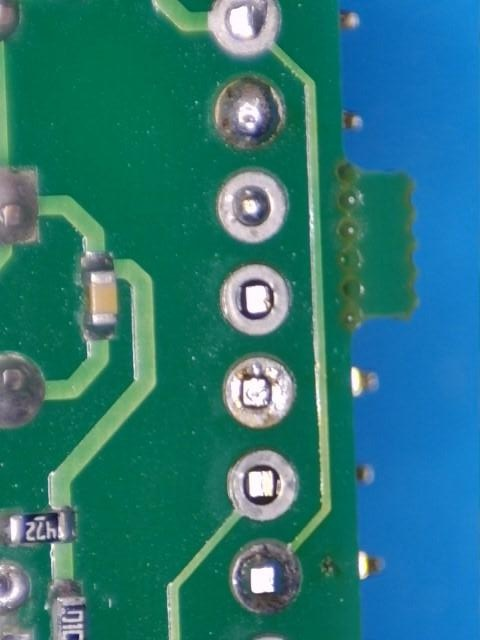pcb_defect: (219, 171, 286, 241), (216, 77, 282, 147), (212, 0, 279, 52)
